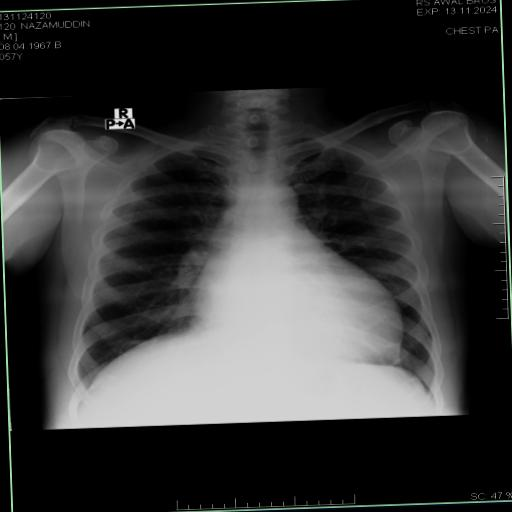kardiomegali: (52, 106, 448, 414)
